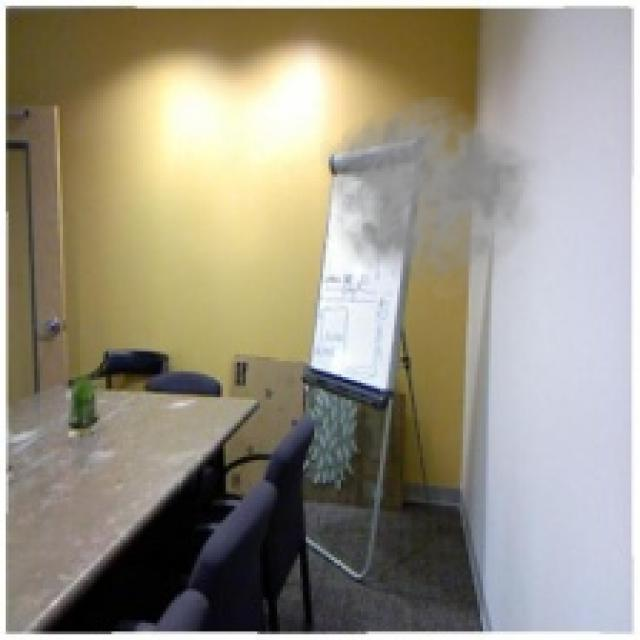Smoke: (321, 94, 548, 303)
